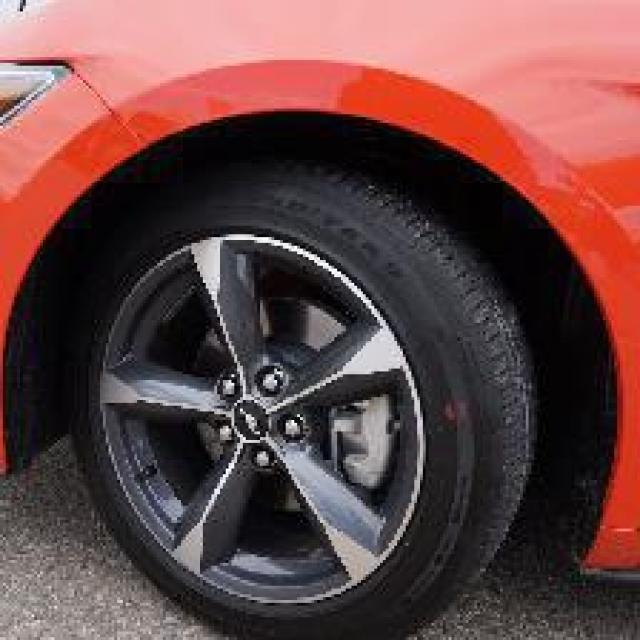damaged: (488, 72, 638, 255)
